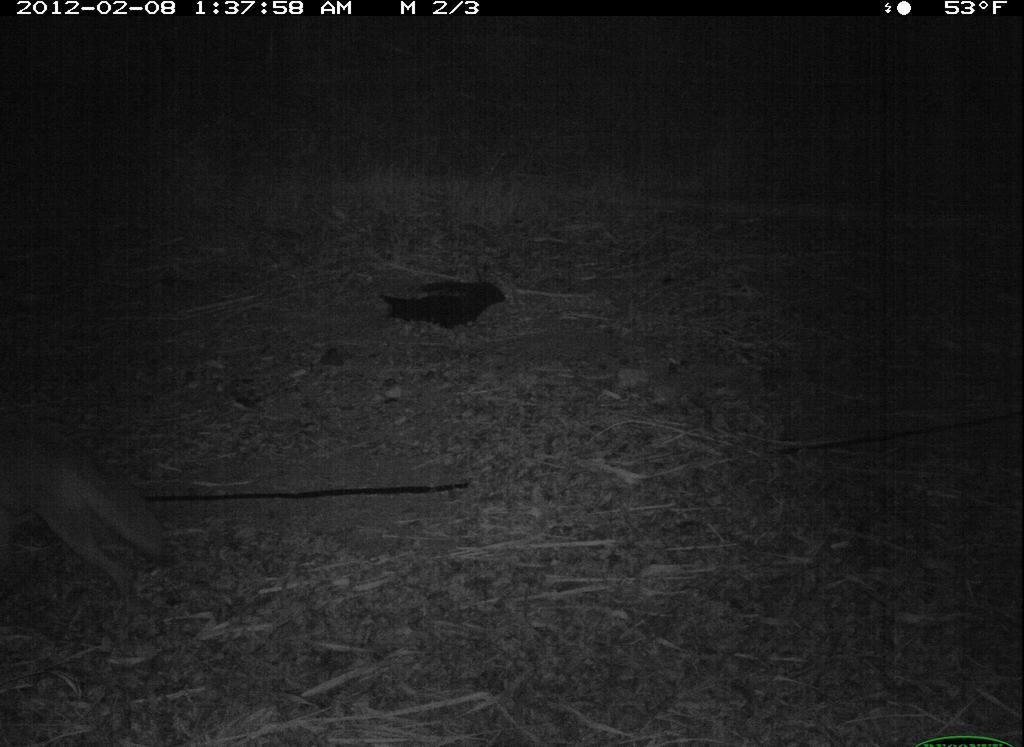coyote: (1, 425, 171, 606)
